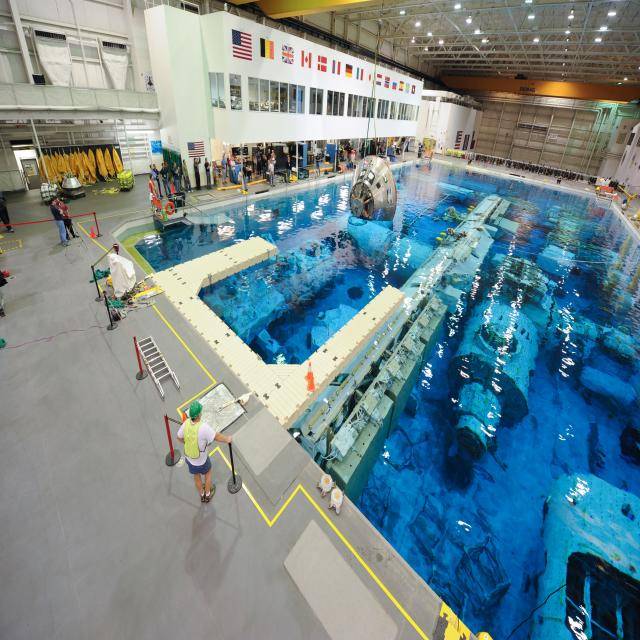Orange_colored_life-ring: (165, 201, 175, 217)
Orion_capsule_mockup_ WEST _located_on_far_end_of_pool: (349, 154, 398, 222)
